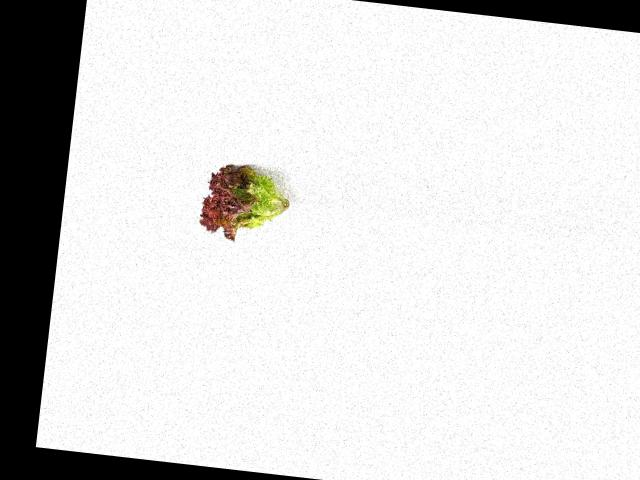lettuce: (193, 158, 304, 245)
